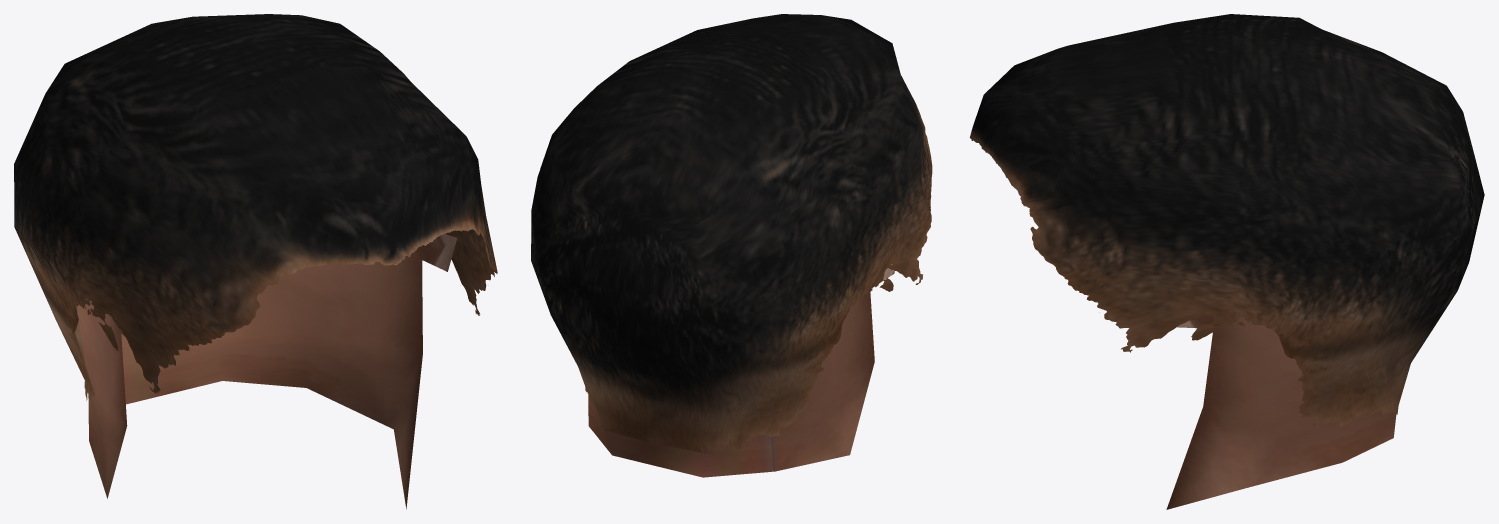
File: mar-hakimi.glb
3 renders of one model, left to right at view 1: azimuth 30°, elevation 25°; view 2: azimuth 150°, elevation 25°; view 3: azimuth 270°, elevation 25°, orthographic. The views are drawn at different scales.
Parts seen in each view (by area): view 1: hair; view 2: hair; view 3: hair.
Boxes of the visible parts, left/top/right/bottom form: hair: left=14, top=14, right=497, bottom=509; hair: left=531, top=14, right=932, bottom=477; hair: left=969, top=14, right=1484, bottom=509.
Bounding box in the file's own units: 0.1446 × 0.1852 × 0.2053.
Materials: 2 (2 with a texture image).
